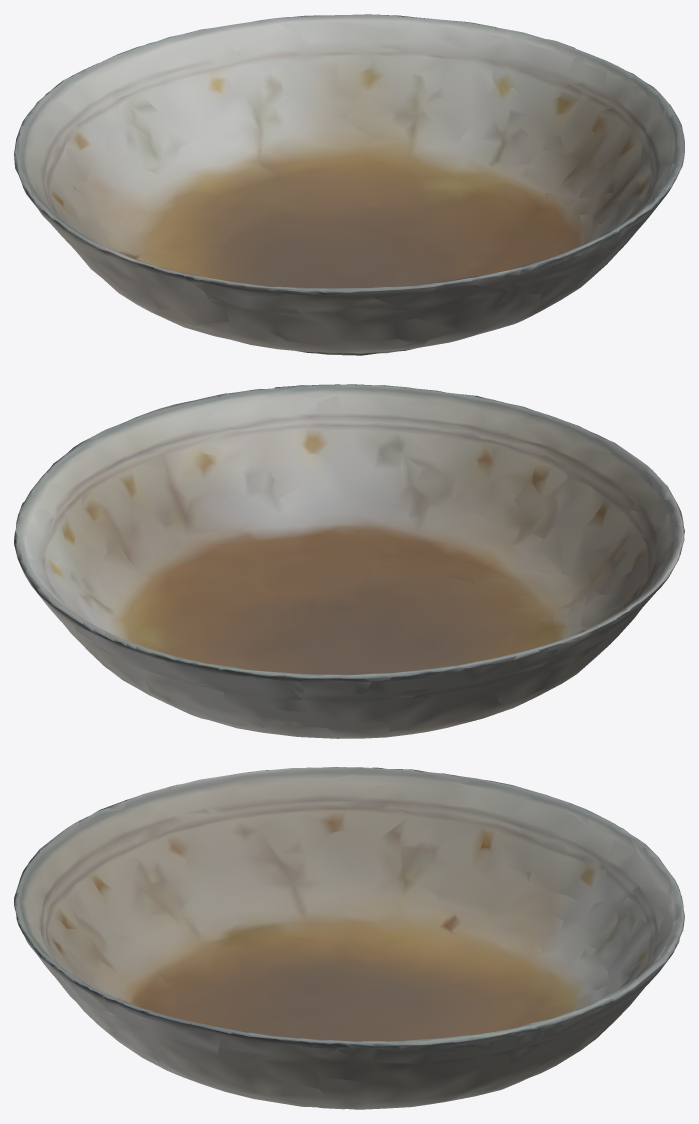
File: 0004_mask_005_braised_pork_trotters.glb
3 views of the same model, one above another, from view 1: azimuth 30°, elevation 25°; view 2: azimuth 150°, elevation 25°; view 3: azimuth 270°, elevation 25° (orthographic).
Visible parts, largest first — view 1: mask_005_object; view 2: mask_005_object; view 3: mask_005_object.
Part boxes in pixels (<box>): mask_005_object: <box>14,14,684,355</box>; mask_005_object: <box>14,384,684,738</box>; mask_005_object: <box>14,767,684,1109</box>.
Size of the model in its own units: 0.4589 by 0.1128 by 0.461.
